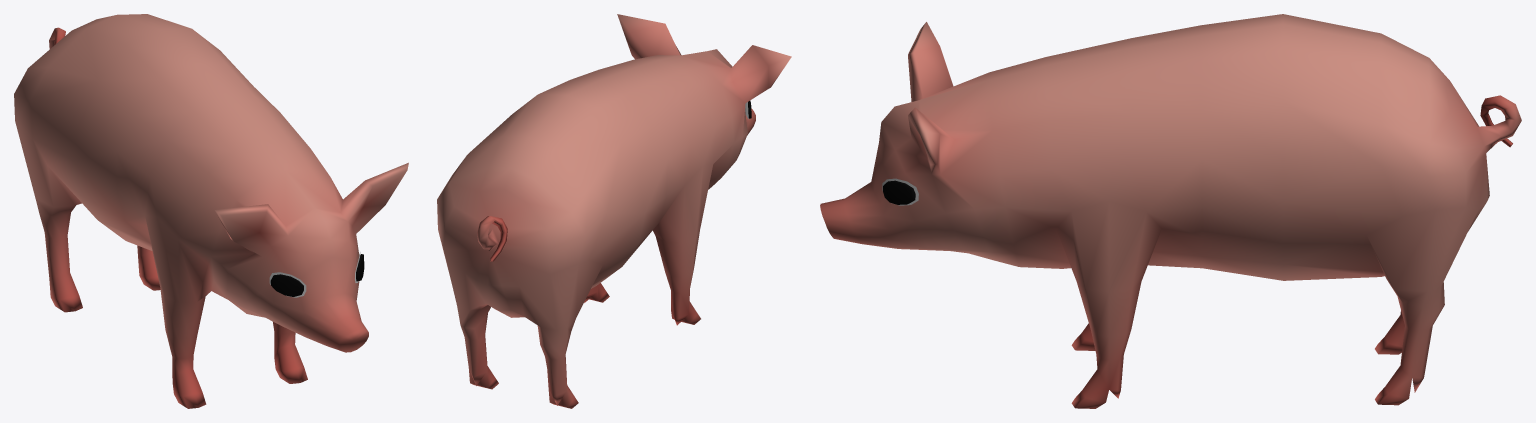
File: animals-animals-pig_v1.glb
The picture shows the model from 3 angles, left to right: view 1: azimuth 30°, elevation 25°; view 2: azimuth 150°, elevation 25°; view 3: azimuth 270°, elevation 25°; orthographic projection. The views are drawn at different scales.
Parts seen in each view (by area): view 1: Pig.001; view 2: Pig.001; view 3: Pig.001.
Part boxes in pixels (x1,y1,x2,y2): Pig.001: (14, 14, 408, 408); Pig.001: (437, 14, 791, 408); Pig.001: (820, 14, 1521, 408).
Size of the model in its own units: 0.5537 by 0.8145 by 1.48.
